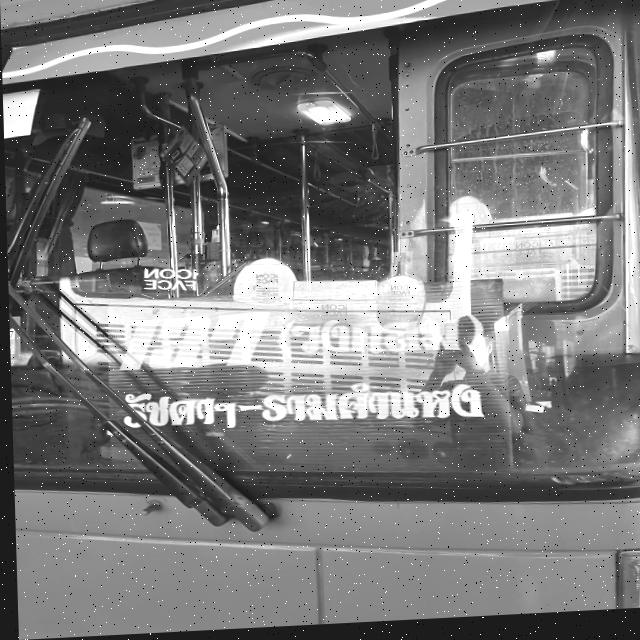BMTA-bus: (0, 0, 640, 640)
Destination-Sign-Normal: (108, 288, 506, 491)
